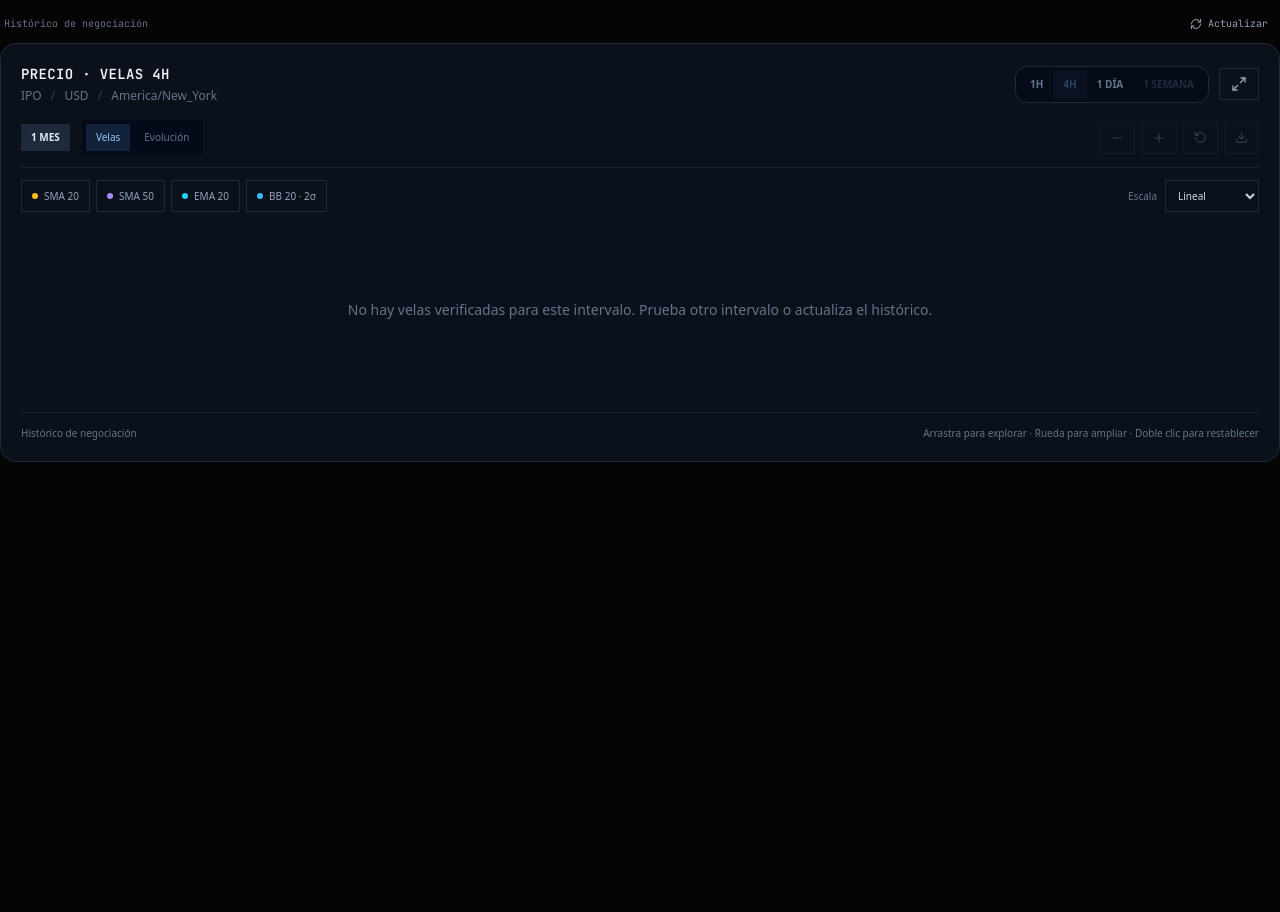
Scenario: report candlestick history › does not advertise unavailable long history or synthesize four-hour candles from daily bars
This screenshot has width=1280, height=912.
Expected: the text "No hay velas verificadas para este intervalo. Prueba otro intervalo o actualiza el histórico." is shown, [348,300,932,319]
Expected: the button named "Velas 4H" is disabled, [1053,70,1087,98]
Click the button with aria-label "Velas 1 DÍA".
click(1110, 84)  # box [1087,70,1133,98]
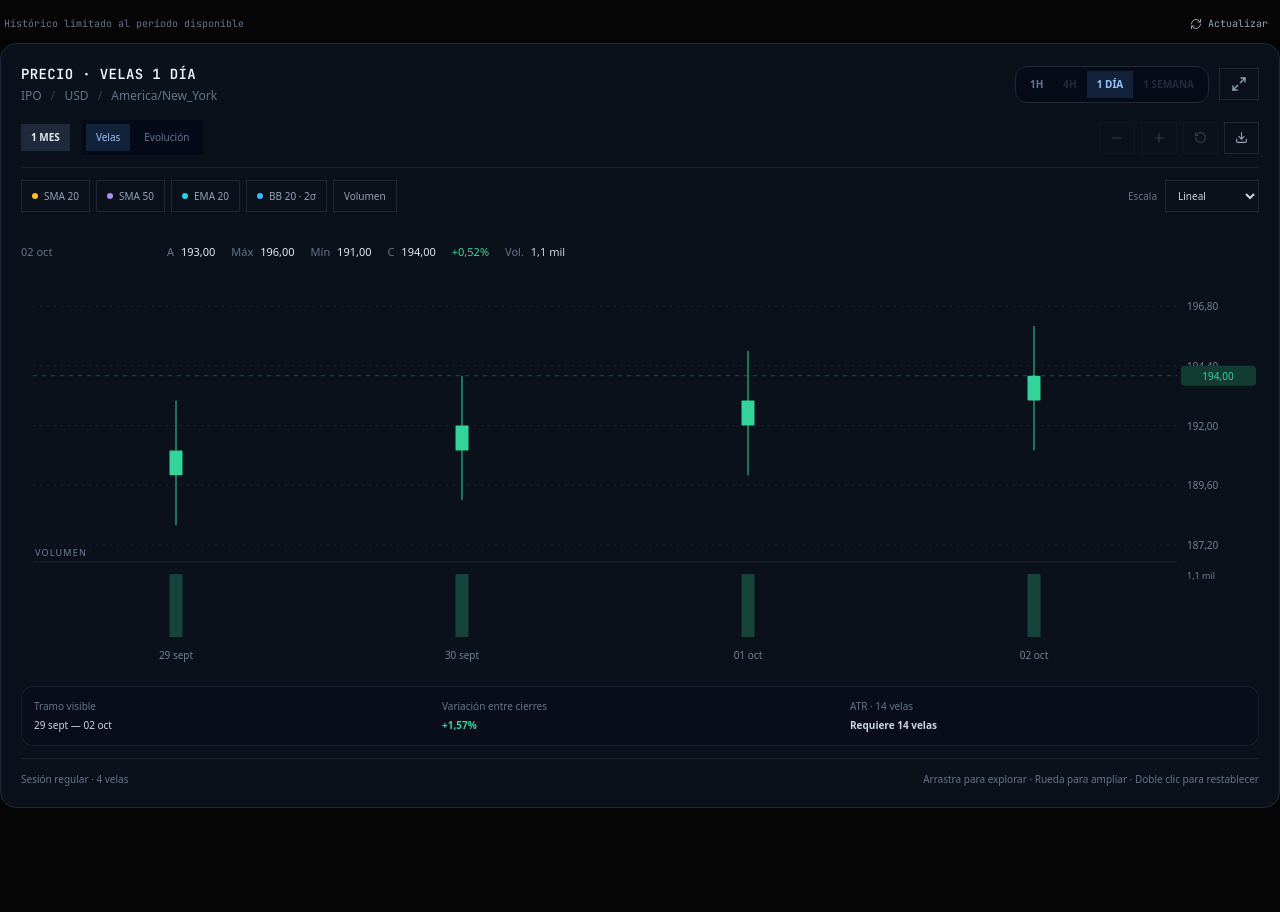
Expected: the text "Histórico limitado al período disponible" is shown, [4,16,244,31]
